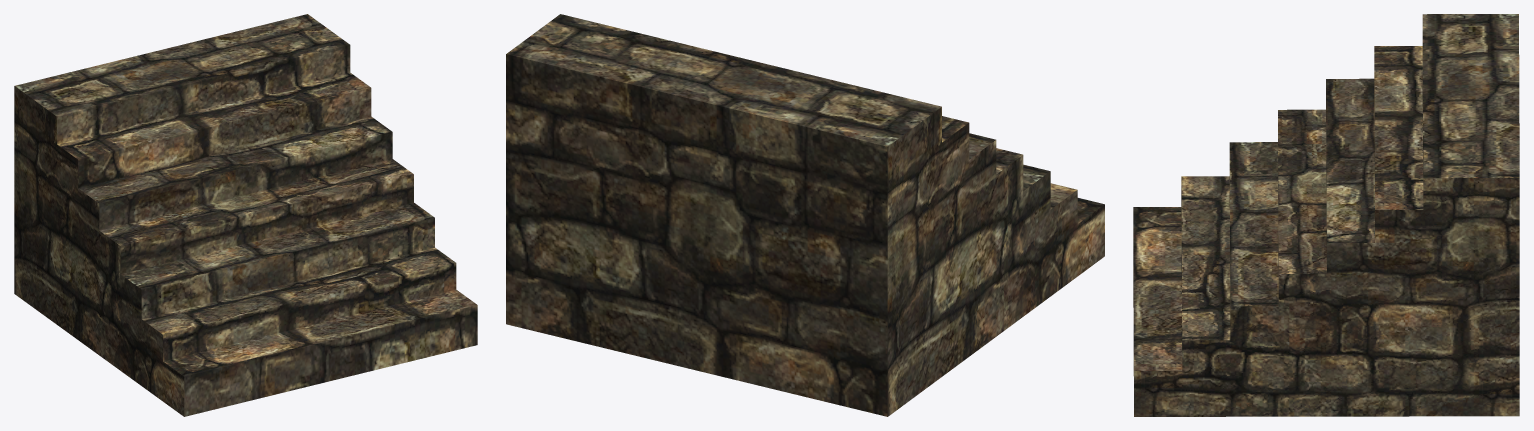
3 views of the same model, side by side, from view 1: azimuth 30°, elevation 25°; view 2: azimuth 150°, elevation 25°; view 3: azimuth 270°, elevation 25° (orthographic). The views are drawn at different scales.
Parts seen in each view (by area): view 1: tn5_st; view 2: tn5_st; view 3: tn5_st.
Part boxes in pixels (x1,y1,x2,y2): tn5_st: (14,14,477,416); tn5_st: (506,14,1104,416); tn5_st: (1133,14,1519,416).
Size of the model in its own units: 4 by 2.7 by 3.97.
Materials: 1 (1 with a texture image).
